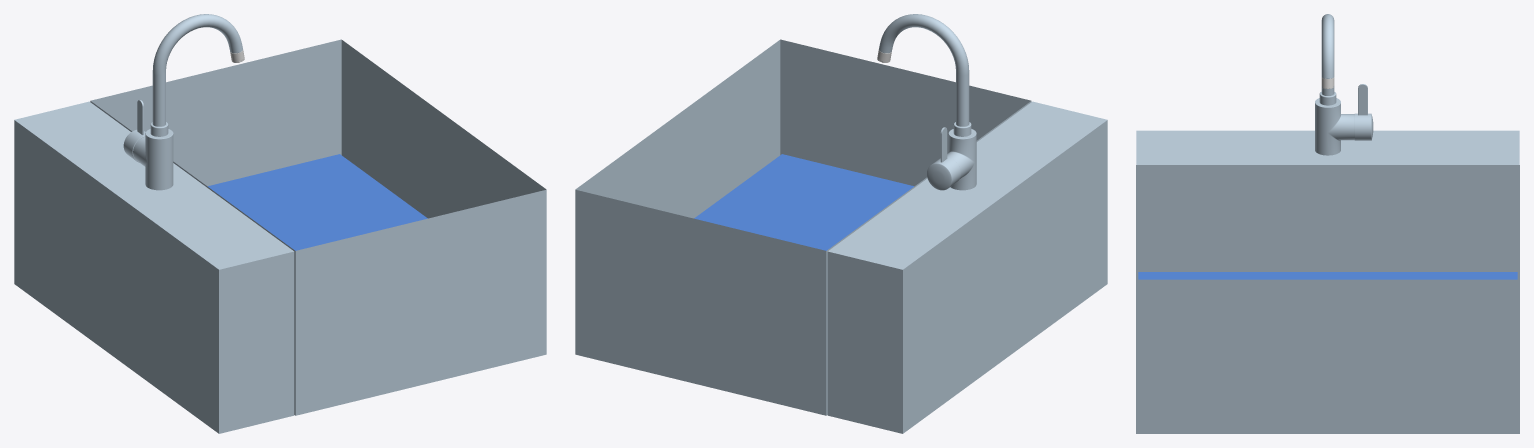
Rendered from water basin.fbx.
The picture shows the model from 3 angles, left to right: view 1: azimuth 30°, elevation 25°; view 2: azimuth 150°, elevation 25°; view 3: azimuth 270°, elevation 25°; orthographic projection. The views are drawn at different scales.
Visible parts, largest first — view 1: Cube, Cube.001, Cube.002, Grohe_G-32830001; view 2: Cube, Cube.001, Cube.002, Grohe_G-32830001; view 3: Cube, Cube.001, Grohe_G-32830001, Cube.002.
Part boxes in pixels (bbox=[...]): Cube: bbox=[90, 39, 546, 415]; Cube.001: bbox=[14, 101, 294, 433]; Cube.002: bbox=[208, 154, 427, 250]; Grohe_G-32830001: bbox=[123, 14, 244, 190]; Cube: bbox=[575, 39, 1031, 415]; Cube.001: bbox=[827, 101, 1107, 433]; Cube.002: bbox=[694, 154, 913, 250]; Grohe_G-32830001: bbox=[877, 14, 976, 190]; Cube: bbox=[1136, 165, 1519, 433]; Cube.001: bbox=[1136, 130, 1519, 164]; Grohe_G-32830001: bbox=[1315, 14, 1373, 155]; Cube.002: bbox=[1138, 272, 1517, 279].
Bounding box in the file's own units: 871 × 823 × 945.
